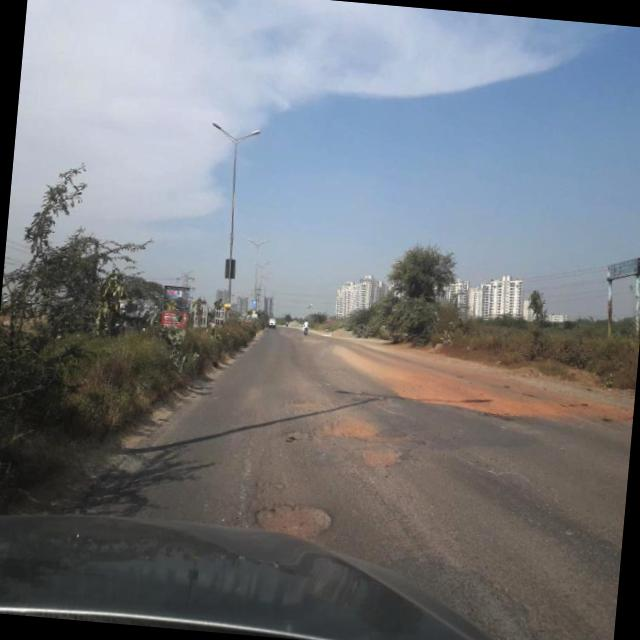crack: (430, 438, 573, 510)
pothole: (370, 354, 586, 436), (441, 563, 573, 640), (265, 388, 384, 441), (246, 493, 344, 538), (340, 441, 414, 478)
